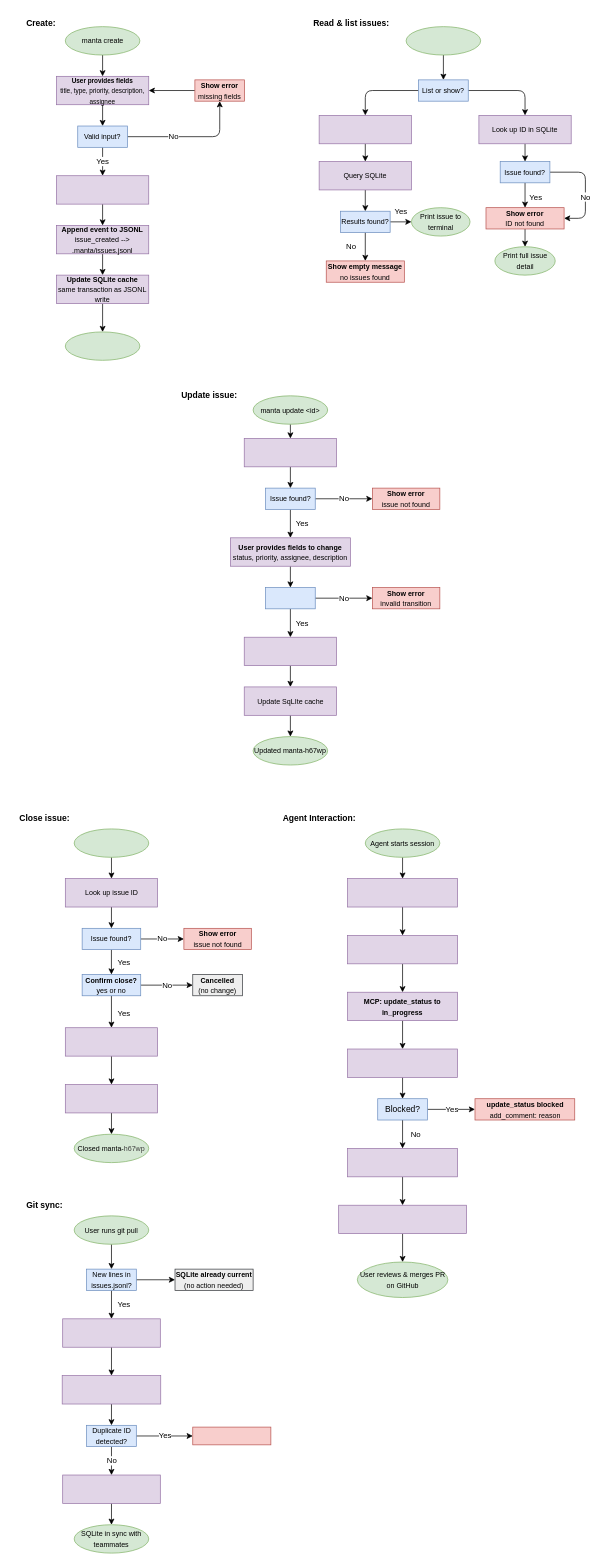
This 604x1566 diagram has some shape labels left out. The centre of each missing label's shape, as x and y in pixels:
"Agent updates work" belongs at (402,1062).
"Append event to JSONL issue_closed, updatedAt" belongs at (111,1041).
"Append event to JSONL issue_updated, updatedAt" belongs at (290,651).
"Apply filters status, priority, assignee" belongs at (364,129).
"Created manta- h67wp" belongs at (102,345).
"Flag collision log warning to user" belongs at (231,1435).
"Generate ID createdAt + createdBy" belongs at (102,189).
"Look up issue by ID" belongs at (290,452).
"manta close <id>" belongs at (111,842).
"manta list OR manta show <id>" belongs at (443,40).
"MCP: get_issue <id> pick highest priority, read all fields" belongs at (402,949).
"MCP: list_issues get open issues" belongs at (402,892).
"MCP: log_tokens record token usage for this issue" belongs at (402,1162).
"MCP: update_status to ready_for_review open PR on GitHub; never merges" belongs at (402,1219).
"Read checkpoint last_synced_line from SQLite meta table" belongs at (111,1332).
"Replay new events into SQLite skip already processed lines" belongs at (111,1389).
"Update checkpoint last_synced_line in SQLite meta table" belongs at (111,1488).
"Update SQLite cache status done" belongs at (111,1098).
"Valid status transition?" belongs at (290,598).
